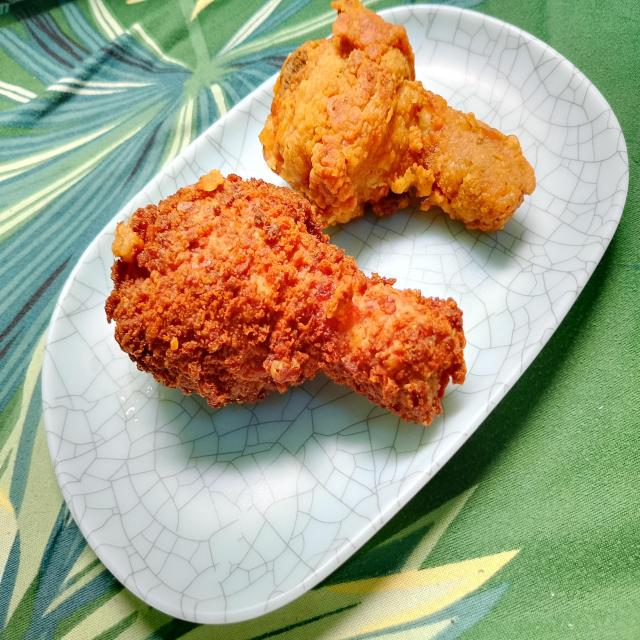Chicken -Fried Chicken-: (128, 34, 520, 415)
